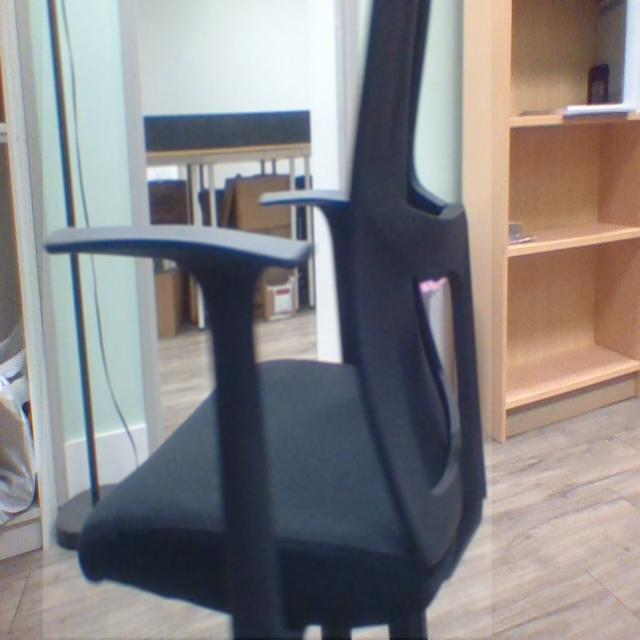chair: (39, 0, 498, 640)
